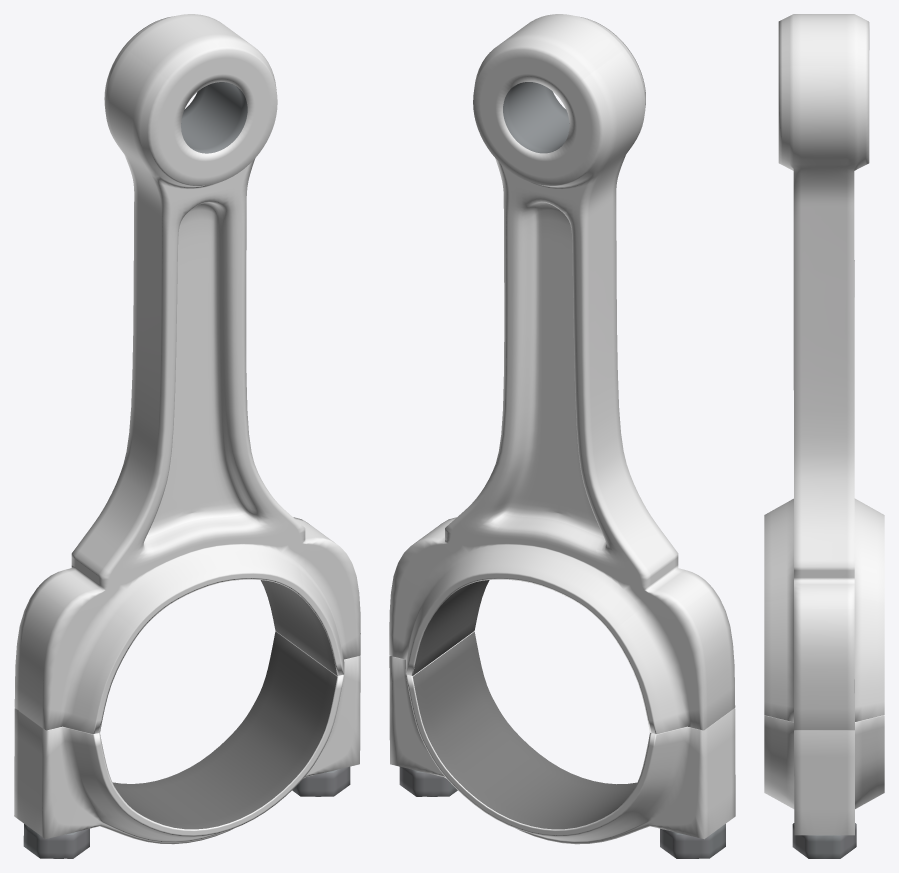
File: rod.glb
3 views of the same model, side by side, from view 1: azimuth 30°, elevation 25°; view 2: azimuth 150°, elevation 25°; view 3: azimuth 270°, elevation 25° (orthographic). The views are drawn at different scales.
Visible parts, largest first — view 1: Bielle_Sup.005_Metall1_0, Bielle_Sup.005_Trenie_C_0, Bielle_Sup.005_Metall3_0; view 2: Bielle_Sup.005_Metall1_0, Bielle_Sup.005_Trenie_C_0, Bielle_Sup.005_Metall3_0; view 3: Bielle_Sup.005_Metall1_0, Bielle_Sup.005_Metall3_0.
Boxes of the visible parts, x1,y1,x2,y2 form: Bielle_Sup.005_Metall1_0: (14, 14, 360, 844); Bielle_Sup.005_Trenie_C_0: (112, 580, 337, 829); Bielle_Sup.005_Metall3_0: (23, 82, 350, 858); Bielle_Sup.005_Metall1_0: (389, 14, 735, 844); Bielle_Sup.005_Trenie_C_0: (413, 580, 636, 829); Bielle_Sup.005_Metall3_0: (399, 82, 725, 858); Bielle_Sup.005_Metall1_0: (764, 14, 884, 835); Bielle_Sup.005_Metall3_0: (792, 823, 856, 858).
Size of the model in its own units: 0.0849 by 0.2066 by 0.029.
3 materials, 2 textured.
